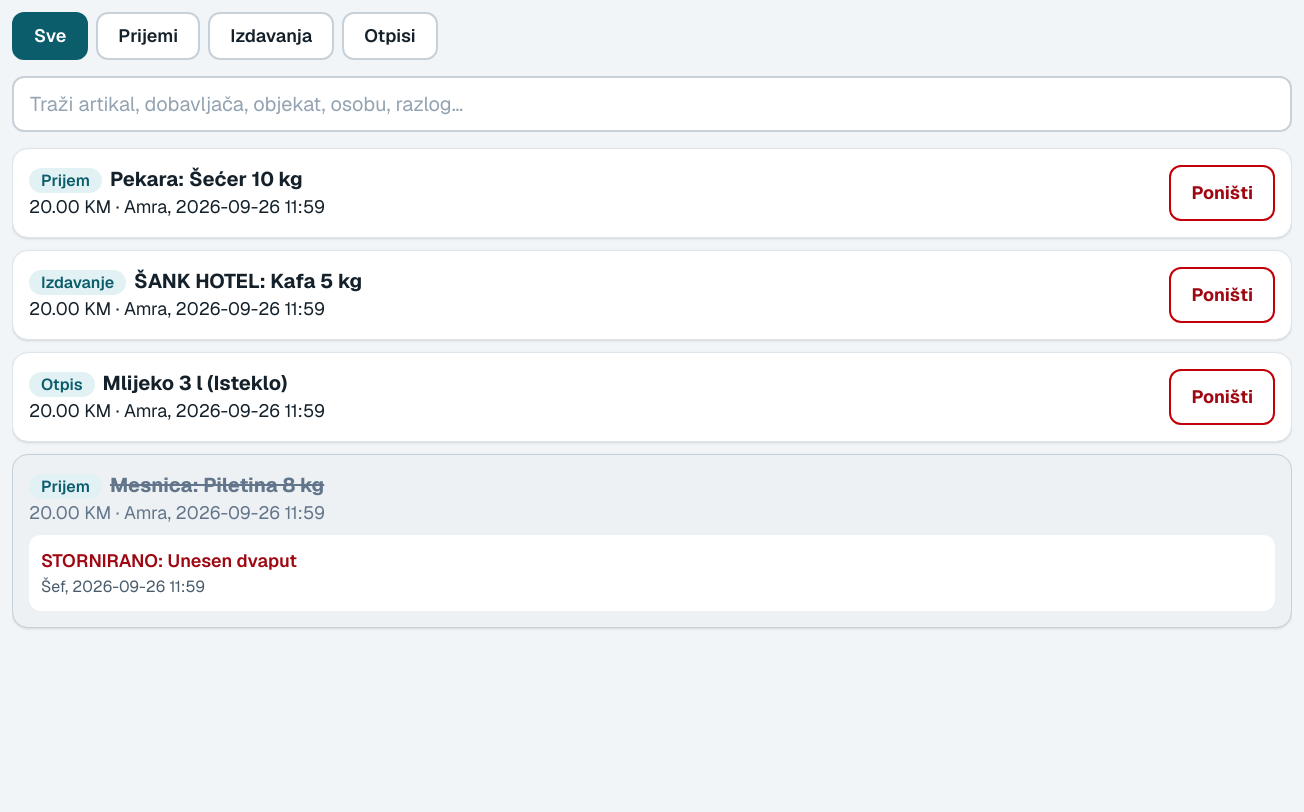
it: storno: pregled radnji › filter sužava na vrstu radnje
The width and height of the screenshot is (1304, 812).
Step 1. Click the button "Otpisi" → (390, 36), box [342,12,438,60]
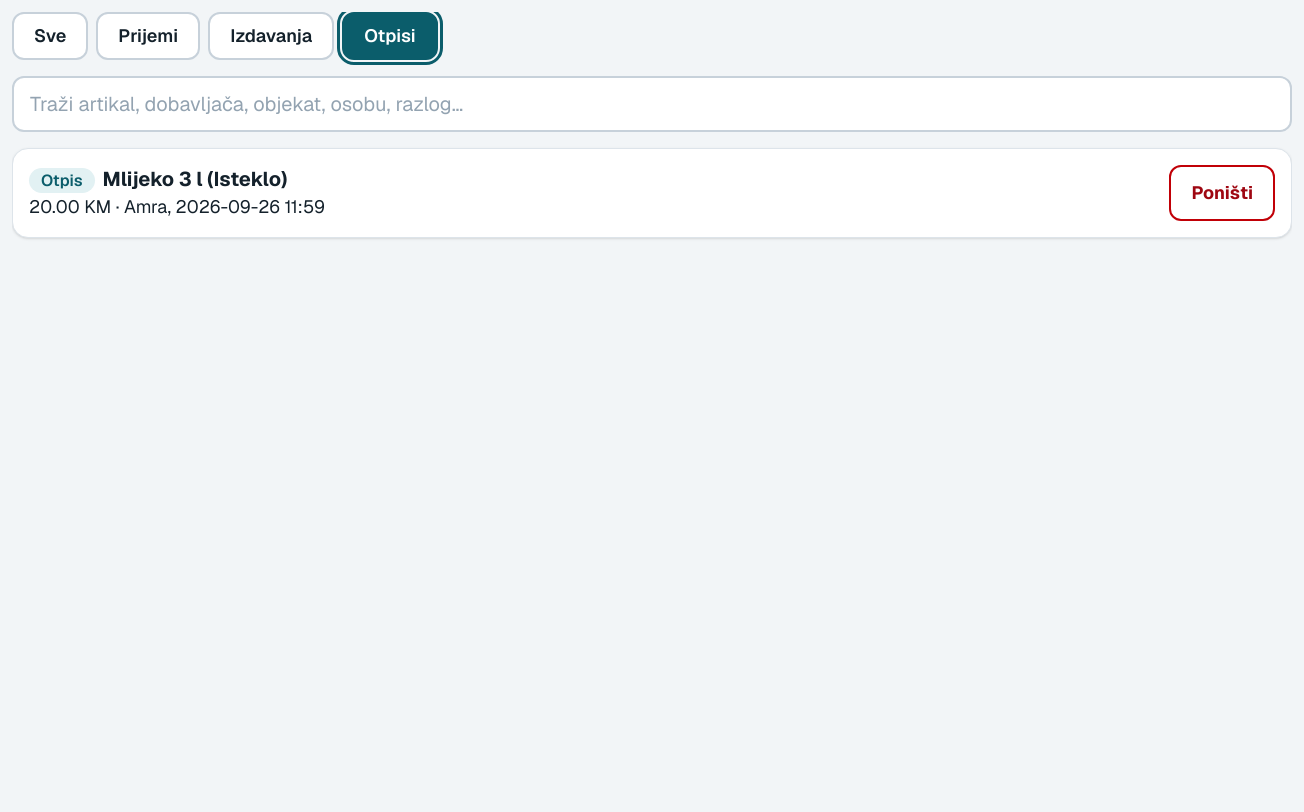
Expected: the text "Mlijeko 3 l (Isteklo)" is shown, [102,166,288,192]
Expected: the text "Pekara" is gone
